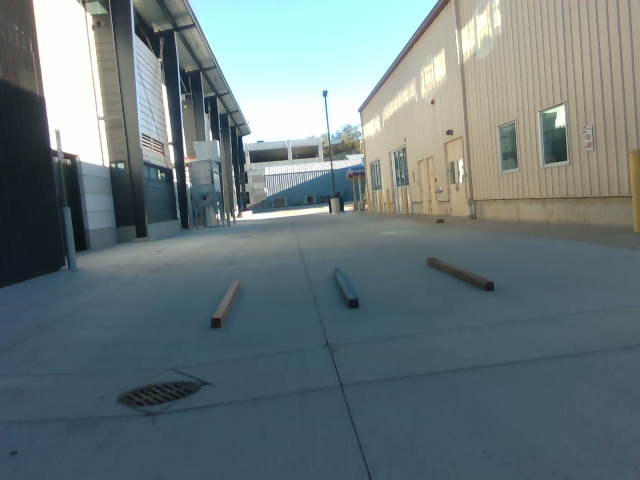dunnage: (198, 246, 510, 336)
